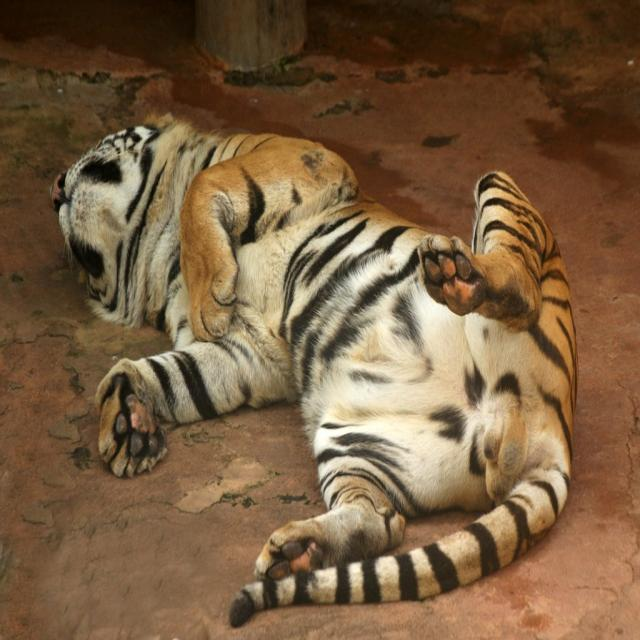Tiger: (47, 106, 580, 627)
